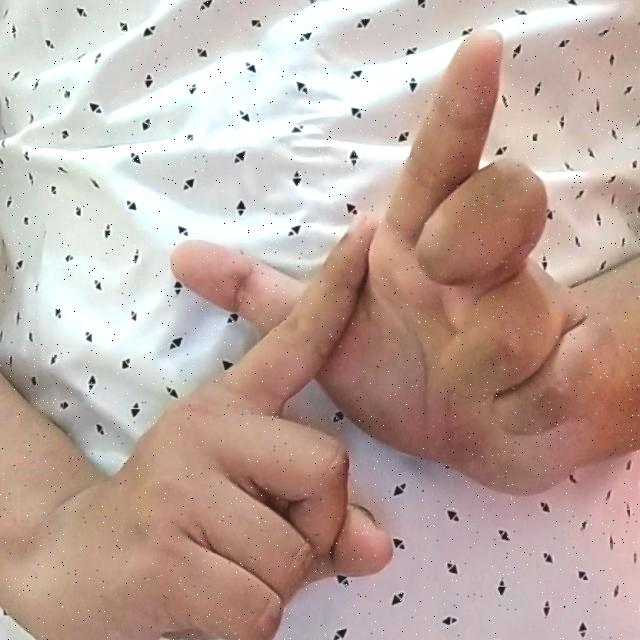Y: (96, 14, 624, 640)
